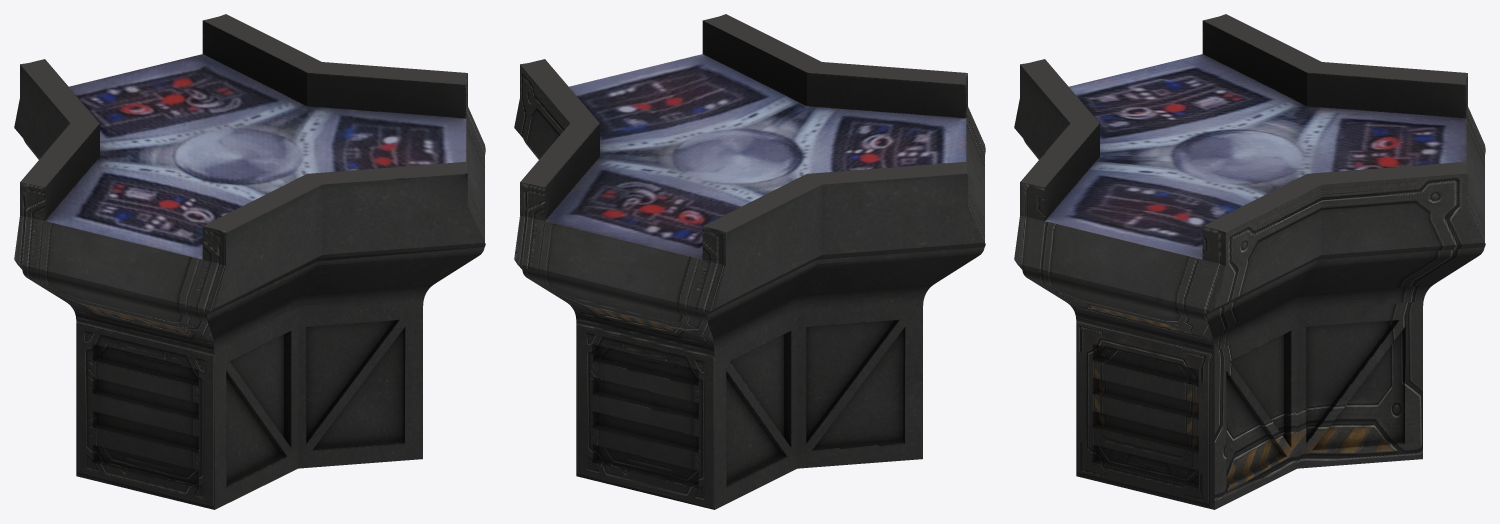
File: Terminal_V2.fbx
3 renders of one model, left to right at view 1: azimuth 30°, elevation 25°; view 2: azimuth 150°, elevation 25°; view 3: azimuth 270°, elevation 25°, orthographic.
Parts seen in each view (by area): view 1: computer; view 2: computer; view 3: computer.
Part boxes in pixels (<box>): computer: <box>14,14,485,509</box>; computer: <box>514,14,985,509</box>; computer: <box>1014,14,1485,509</box>.
Bounding box in the file's own units: 1 × 0.8677 × 0.6131.
1 material, 1 textured.
